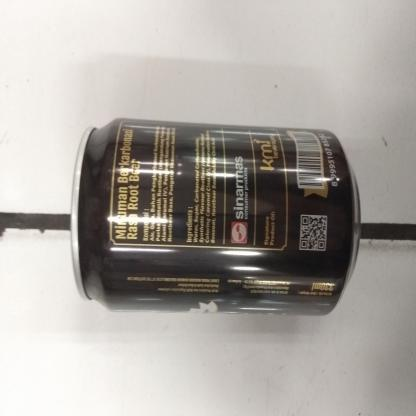mouse: (64, 111, 362, 321)
